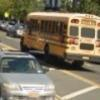buses: (21, 12, 100, 68)
